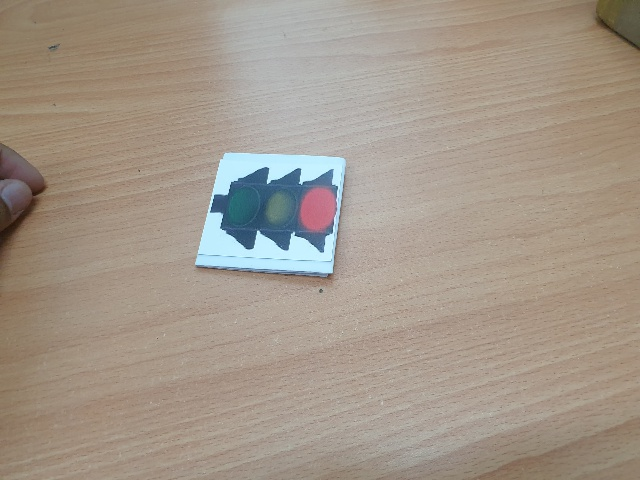Red: (211, 169, 336, 251)
